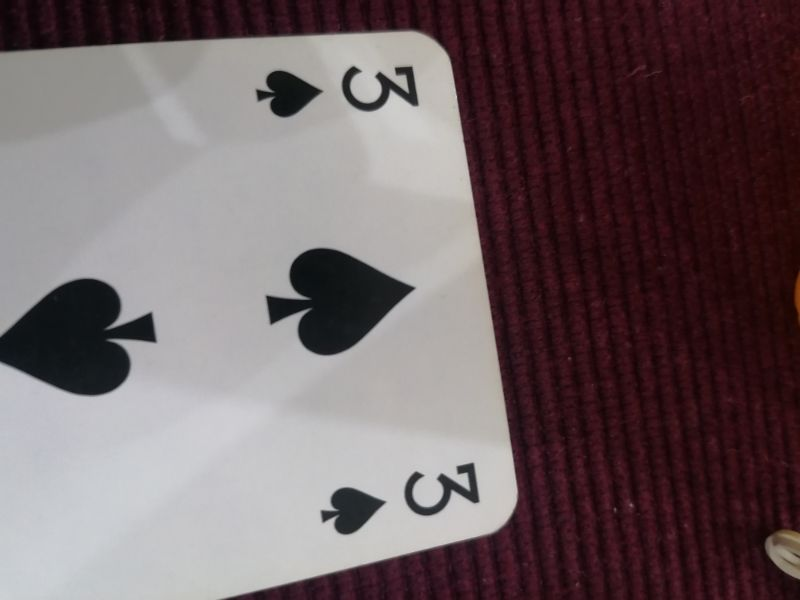3s: (316, 455, 485, 539), (251, 54, 422, 122)
